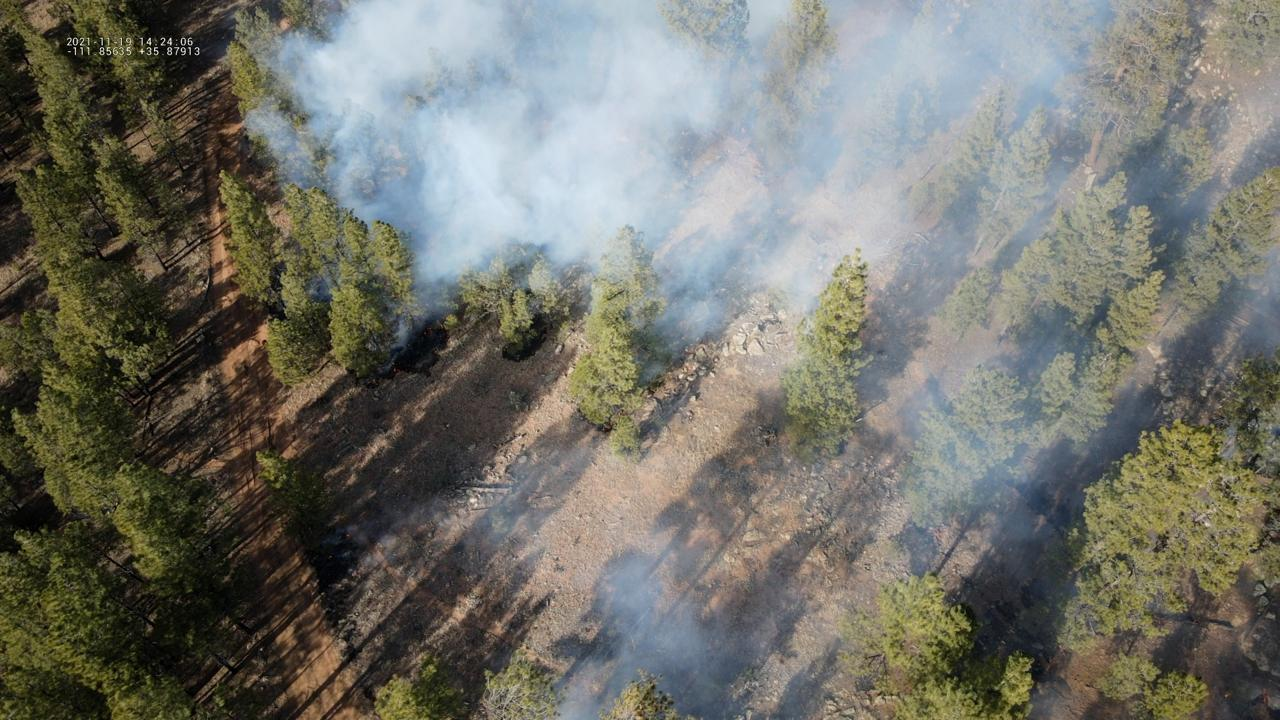fire: (1260, 687, 1270, 705), (958, 528, 967, 542), (1223, 693, 1230, 698), (393, 368, 397, 373)
smoke: (259, 0, 1280, 554), (550, 552, 741, 720), (319, 526, 358, 548)
